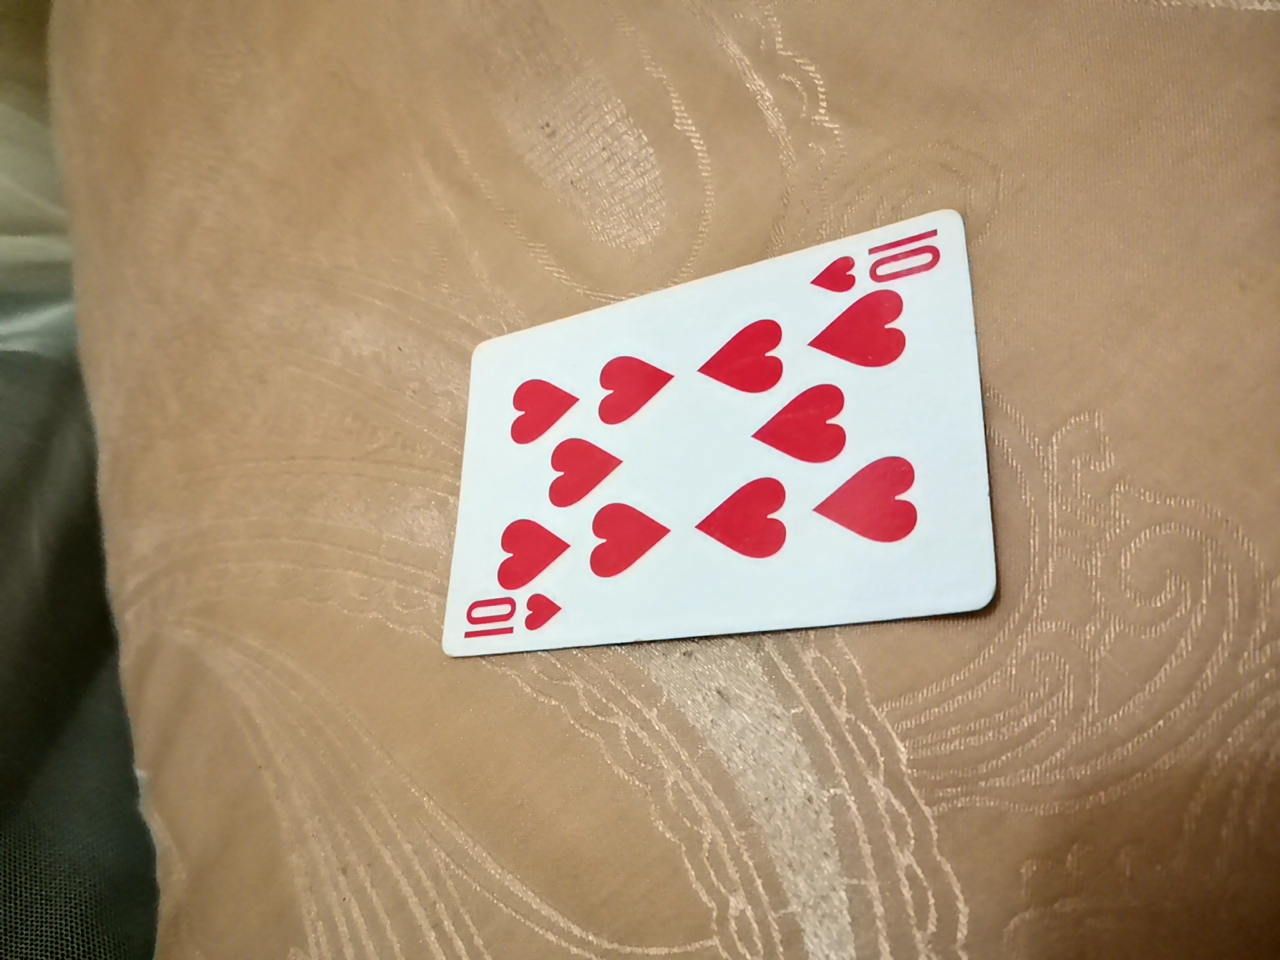hx 10: (450, 225, 999, 659)
